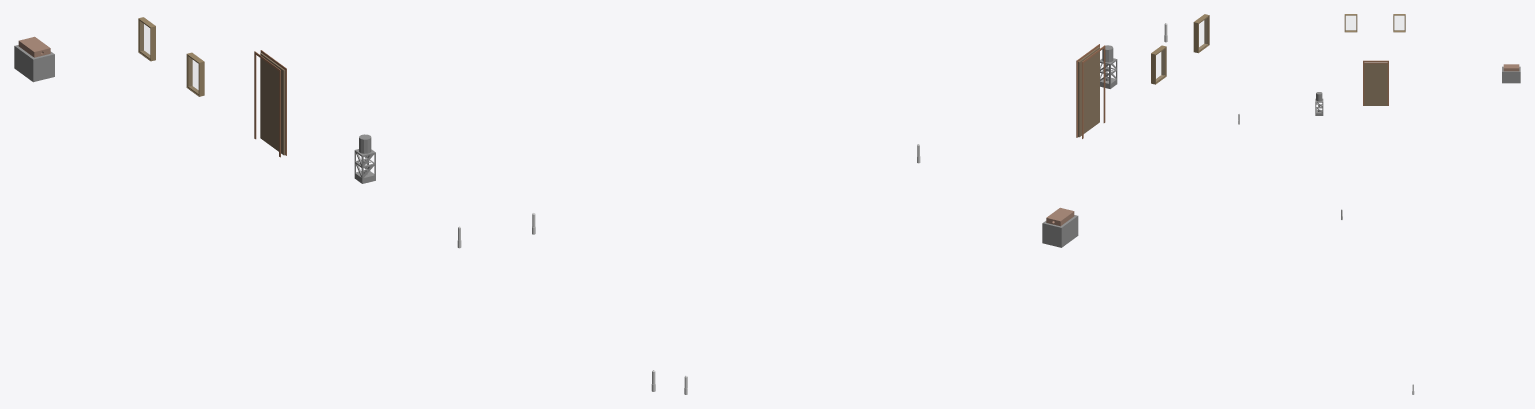
3 views of the same model, side by side, from view 1: azimuth 30°, elevation 25°; view 2: azimuth 150°, elevation 25°; view 3: azimuth 270°, elevation 25° (orthographic). The views are drawn at different scales.
Size of the model in its own units: 19.71 by 17.87 by 18.08.
